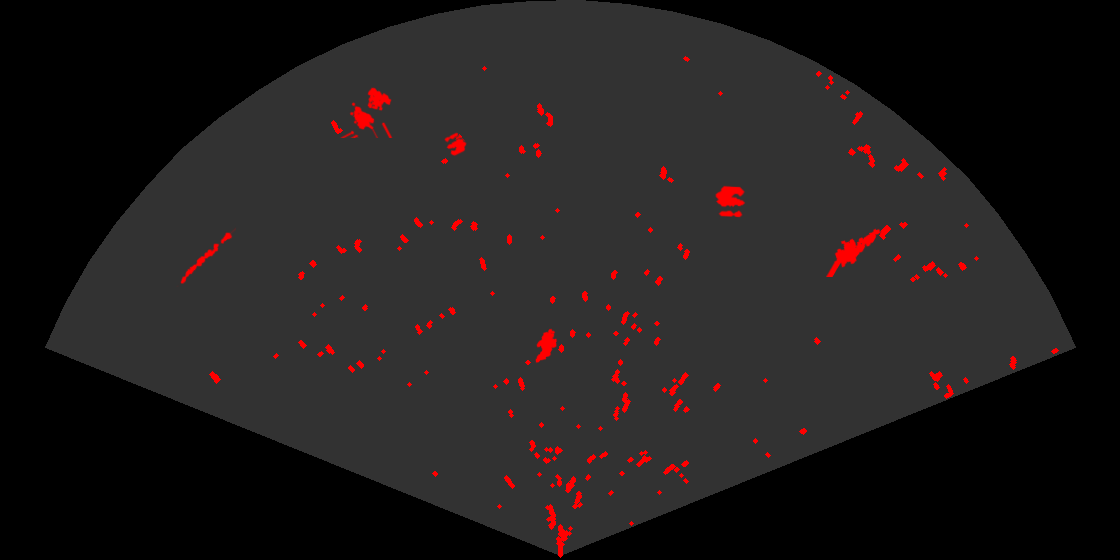AUV: (534, 327, 559, 365)
ball: (714, 184, 747, 219), (443, 131, 468, 158)
cage: (339, 86, 394, 138)
chain: (175, 226, 236, 287)
frogman: (826, 227, 882, 277)
